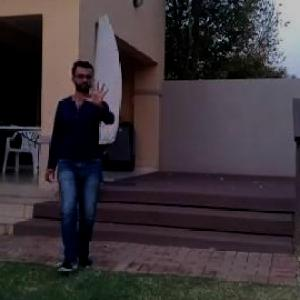follow_hand: (79, 75, 112, 109)
